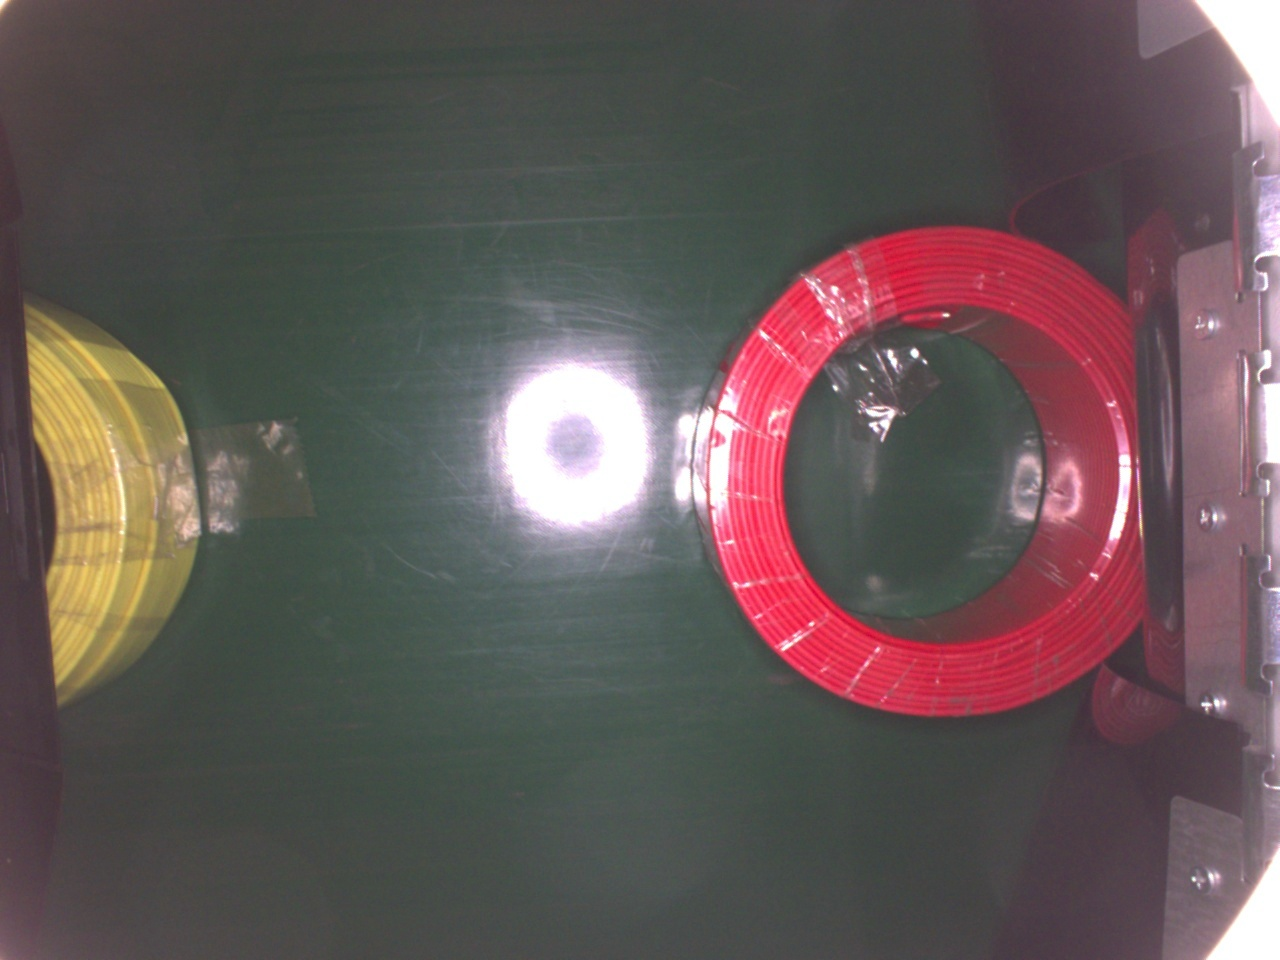red: (692, 226, 1146, 720)
yellow: (16, 285, 206, 702)
